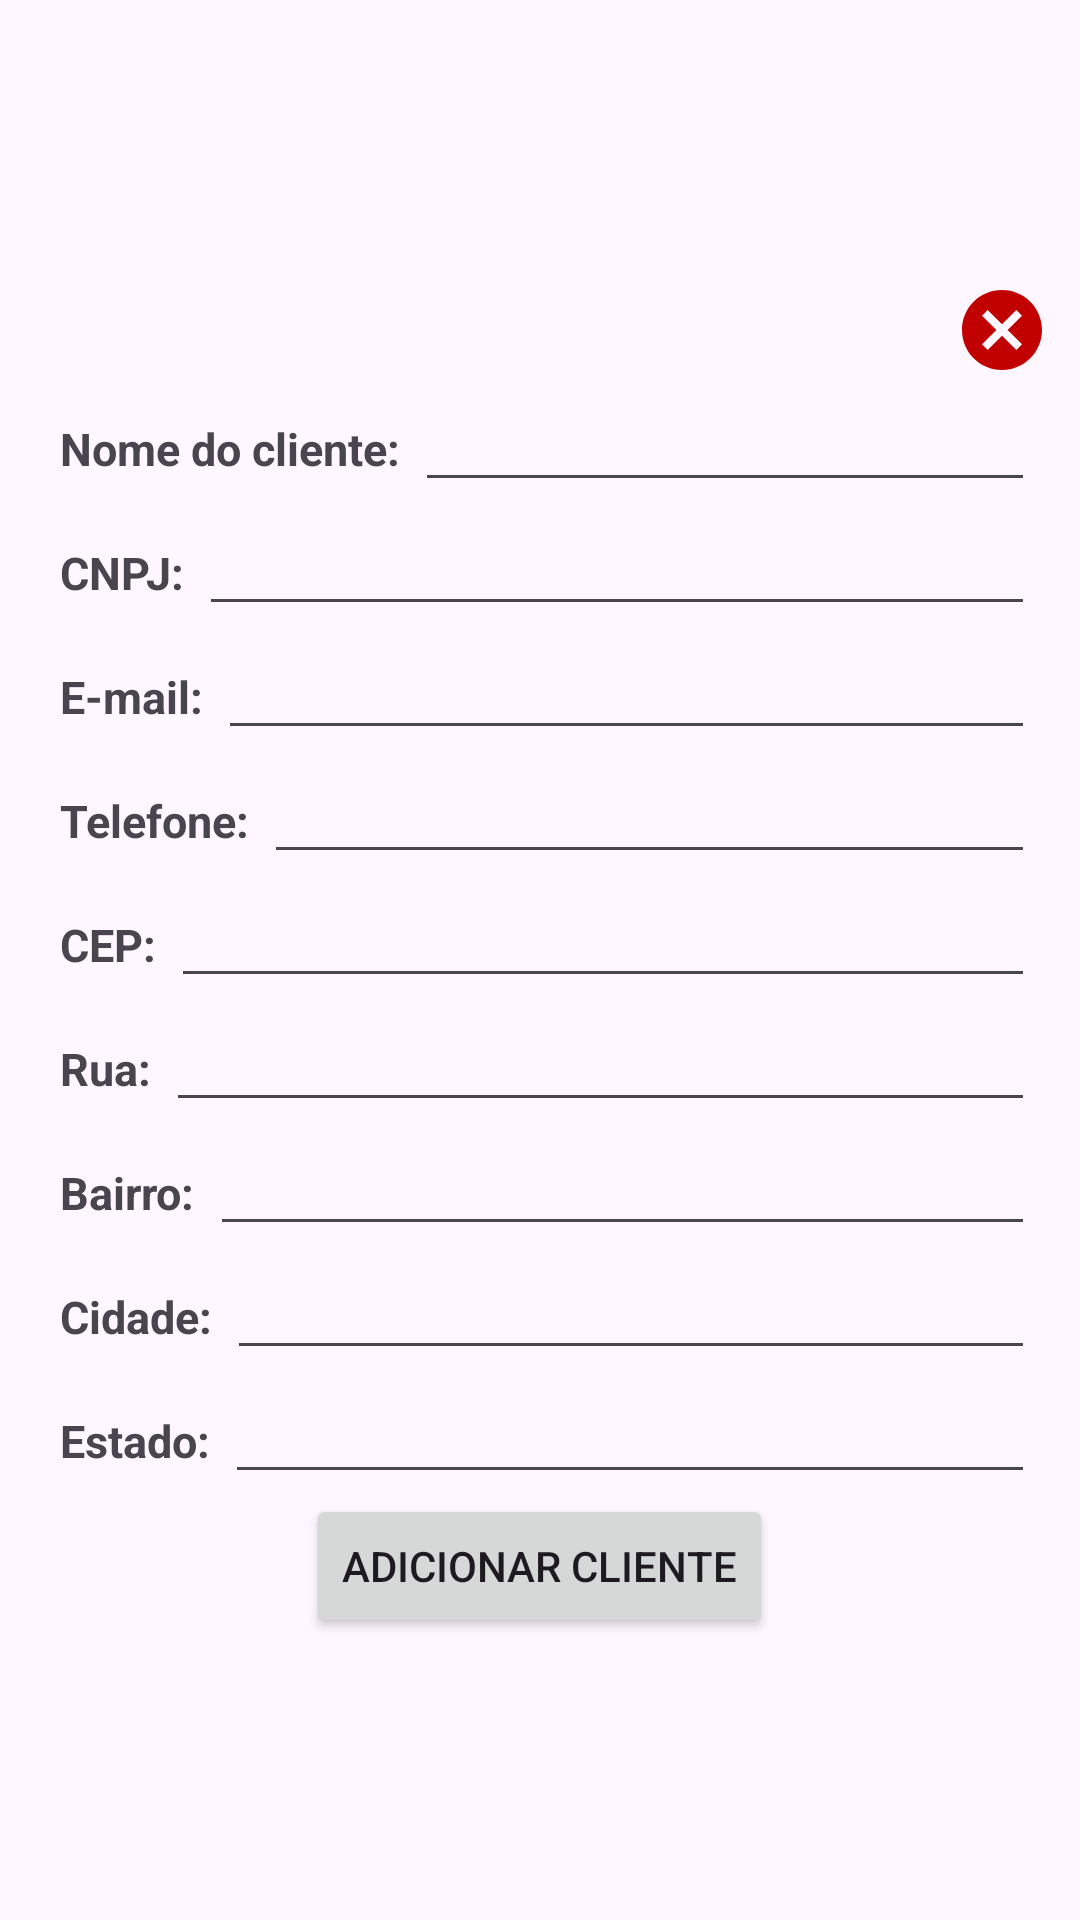

Where to tap for icons on this 1080×1920 app screen, as [x,y]:
close: [1002,330]
